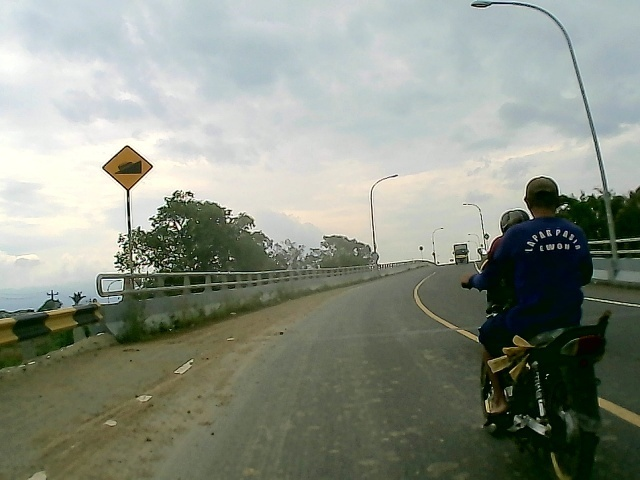Jalanan menanjak: (98, 144, 157, 191)
